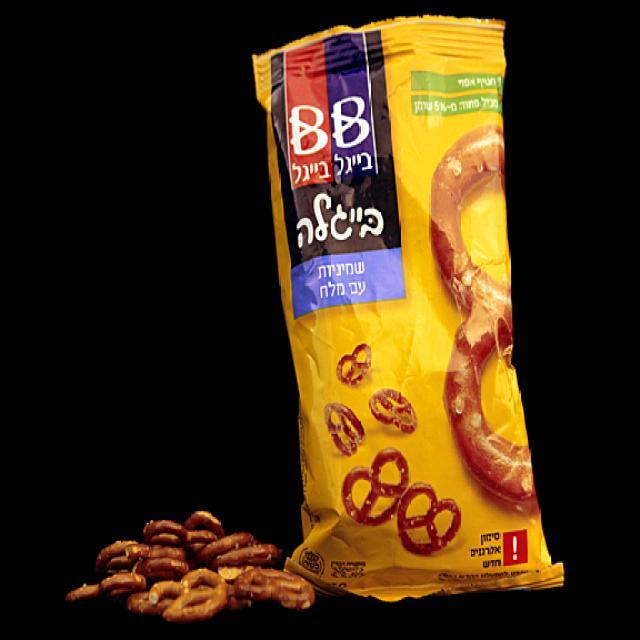Coke: (59, 502, 313, 620)
